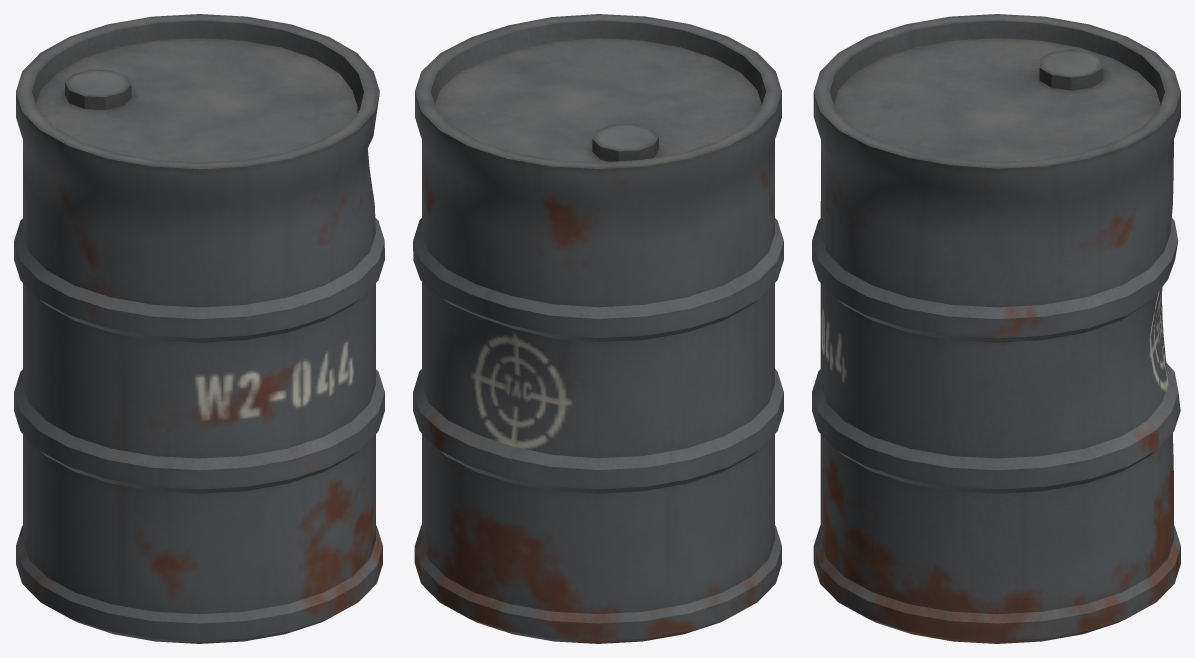
Rendered from W2_OilDrum_Grey.fbx.
3 views of the same model, side by side, from view 1: azimuth 30°, elevation 25°; view 2: azimuth 150°, elevation 25°; view 3: azimuth 270°, elevation 25° (orthographic).
Parts seen in each view (by area): view 1: W2_OilDrum_Grey; view 2: W2_OilDrum_Grey; view 3: W2_OilDrum_Grey.
Boxes of the visible parts, <box> form: W2_OilDrum_Grey: <box>14,14,384,643</box>; W2_OilDrum_Grey: <box>413,14,783,643</box>; W2_OilDrum_Grey: <box>812,14,1180,643</box>.
Bounding box in the file's own units: 210 × 300 × 209.
1 material, 1 textured.
